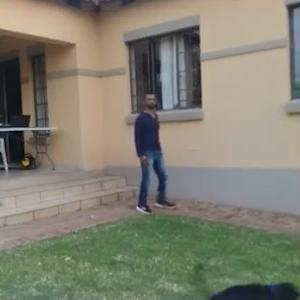follow: (131, 86, 170, 216)
